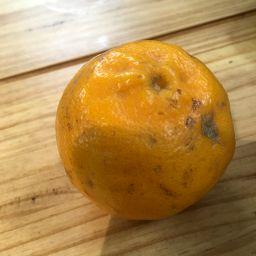Unripe: (57, 42, 234, 220)
